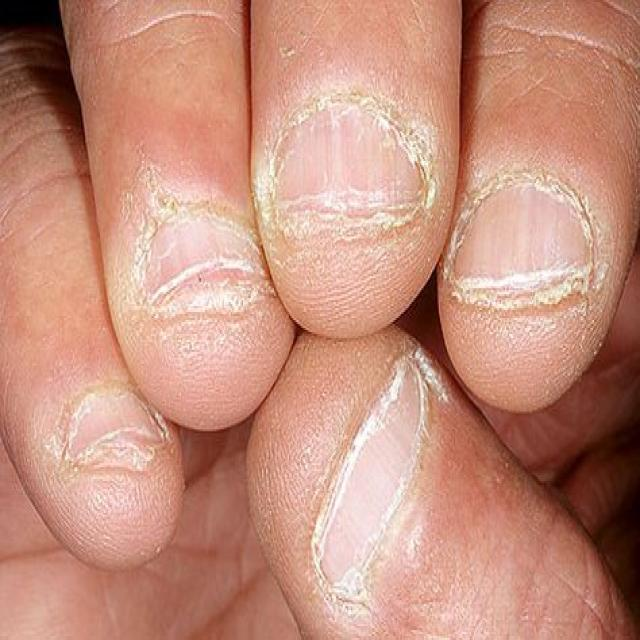Fingernail: (317, 355, 425, 602), (273, 101, 423, 230), (451, 176, 595, 307), (145, 214, 266, 304), (69, 389, 160, 461)
